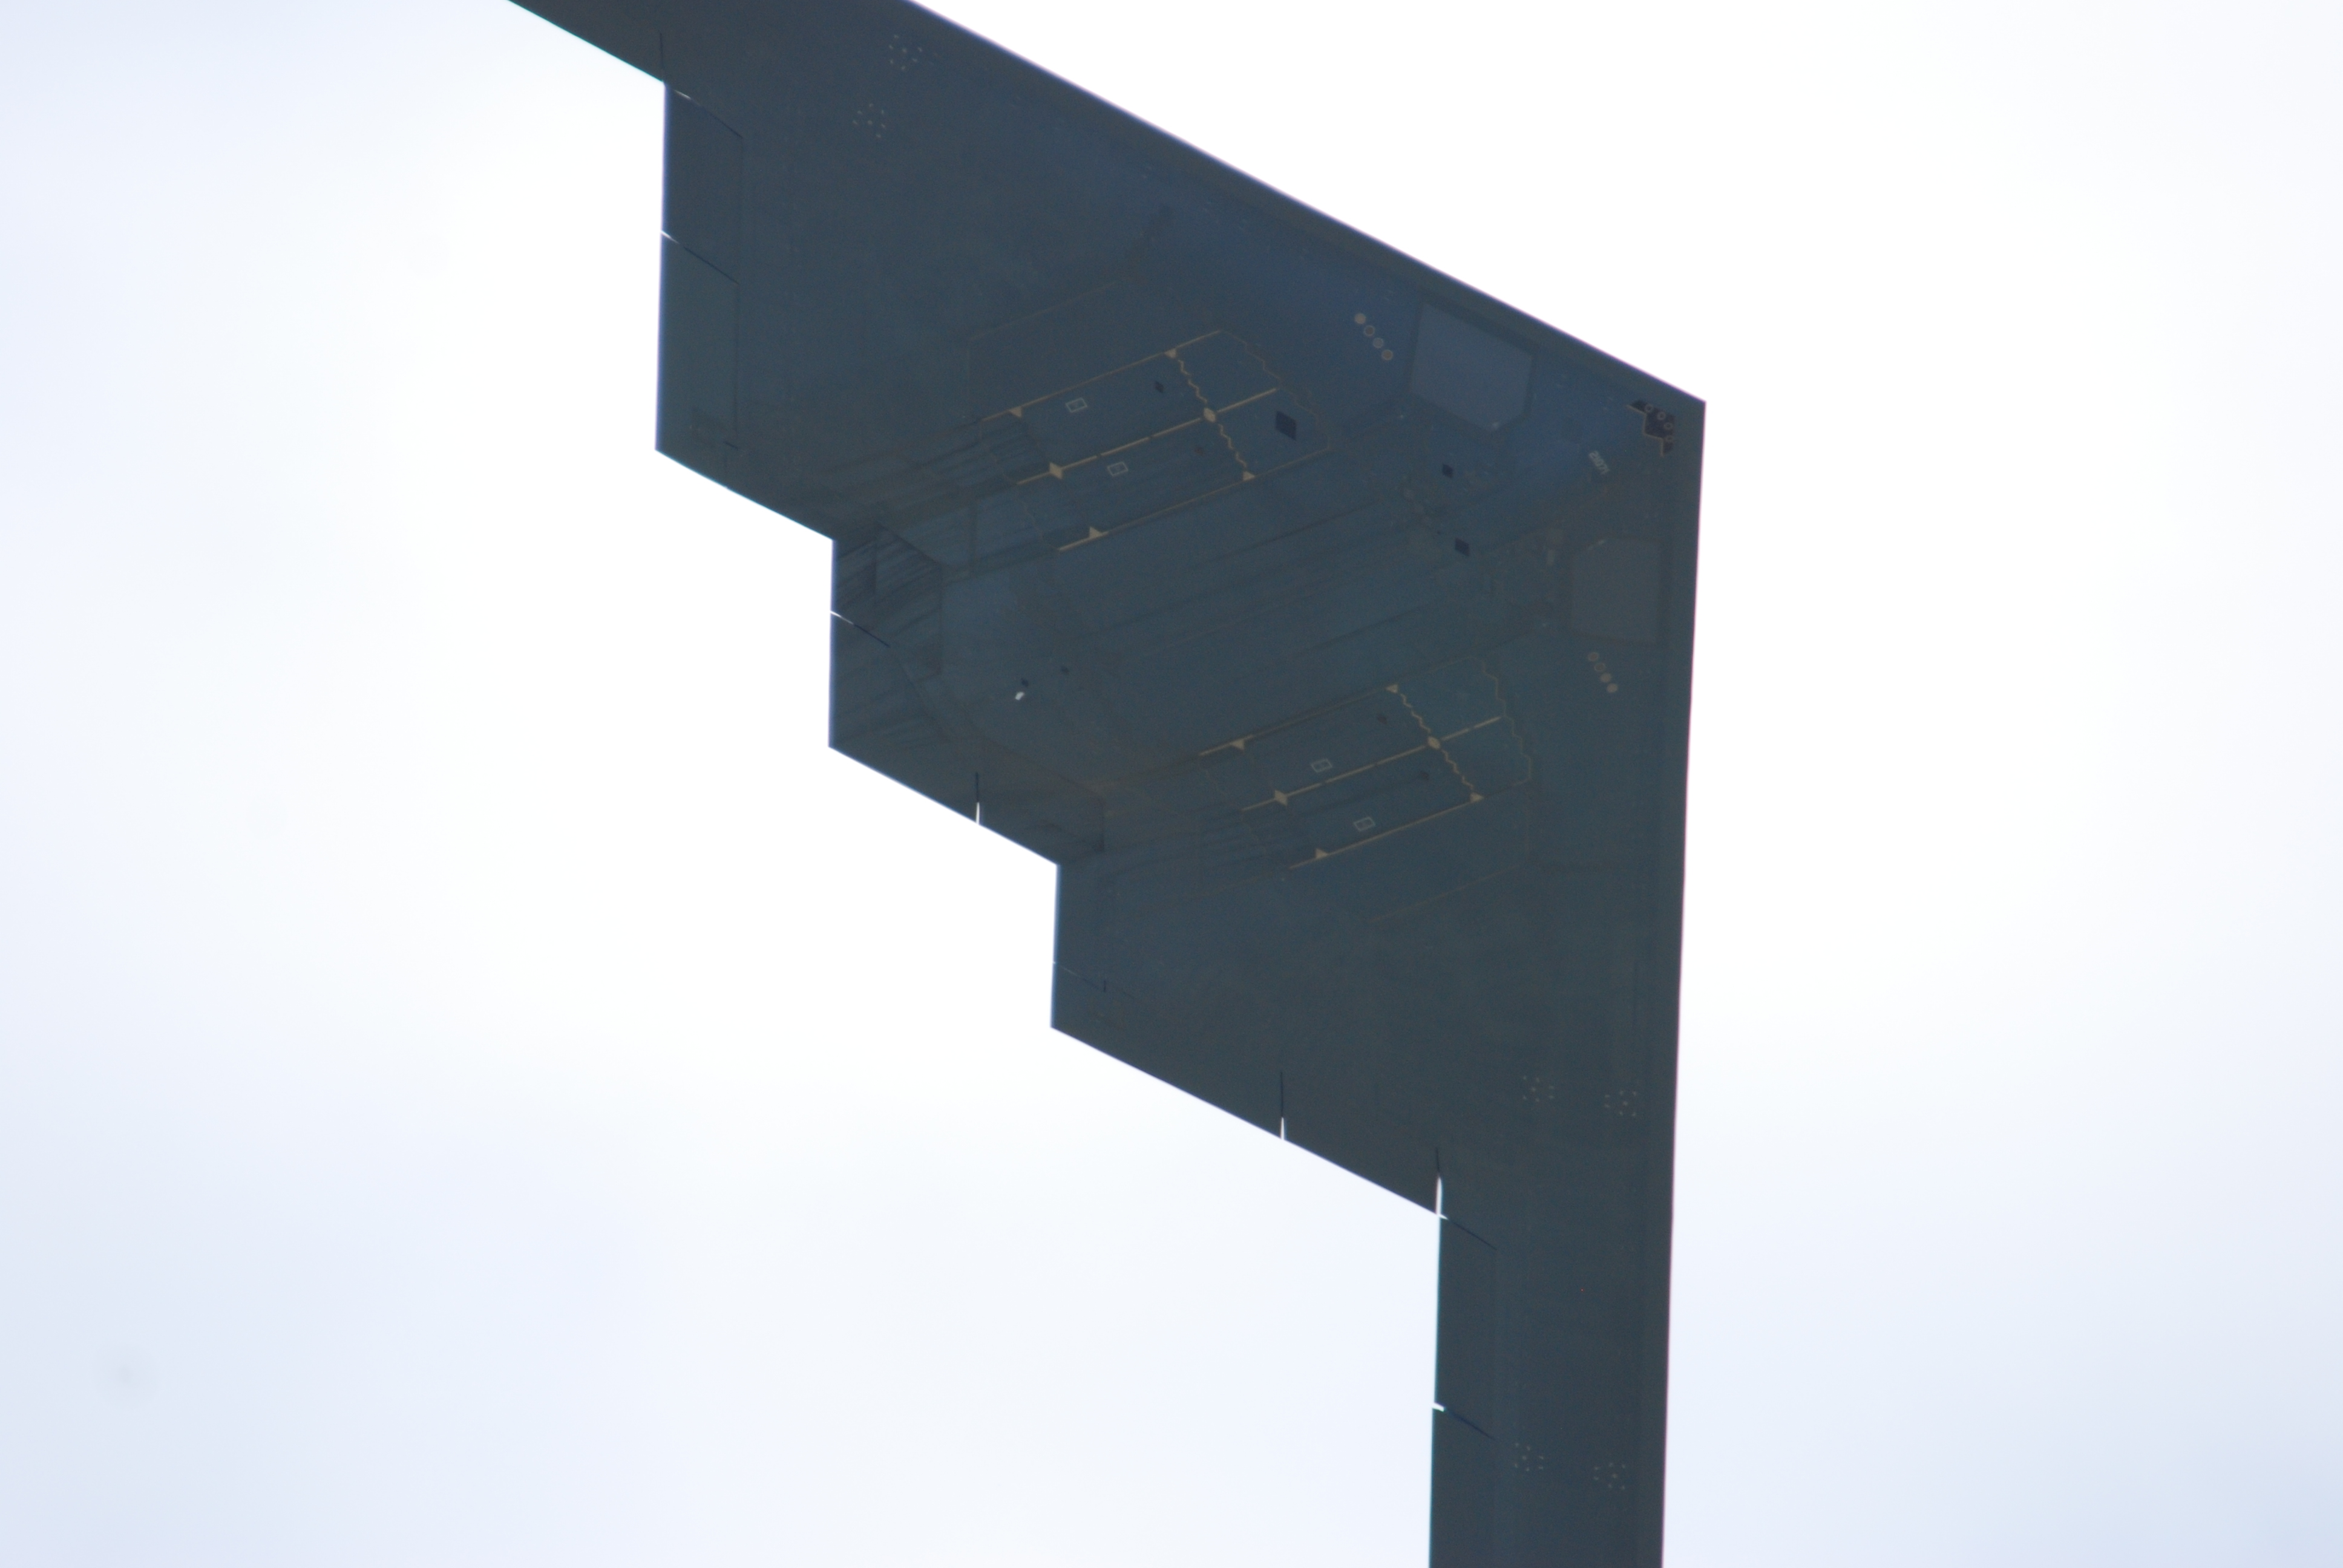B2: (506, 0, 1706, 1568)
